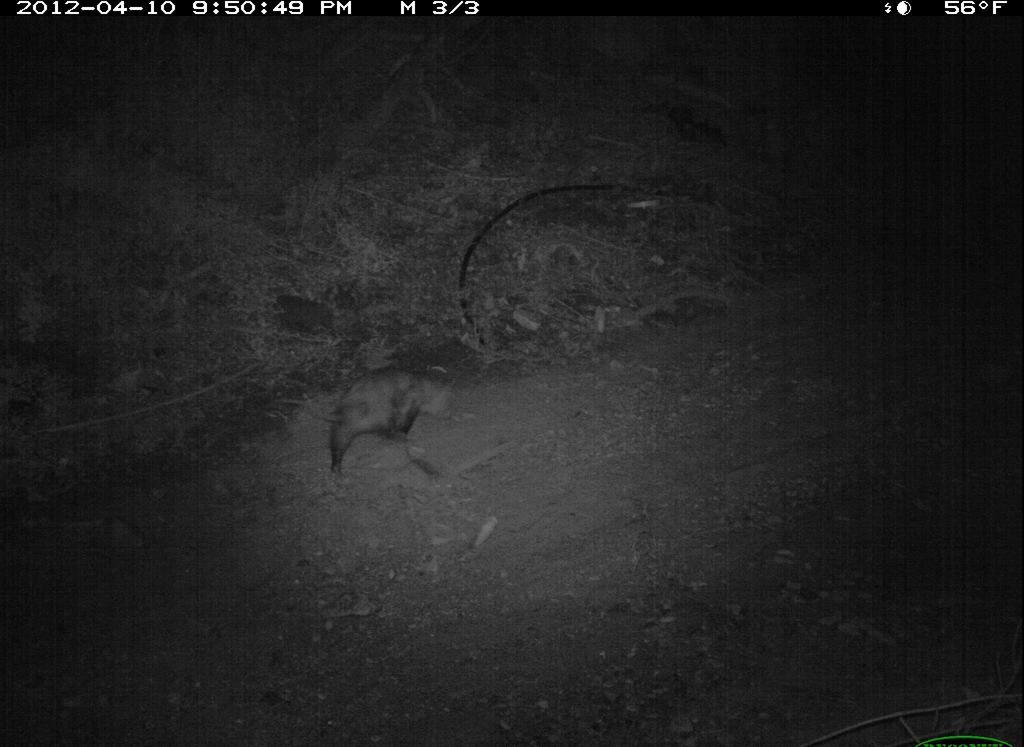opossum: (267, 360, 469, 487)
